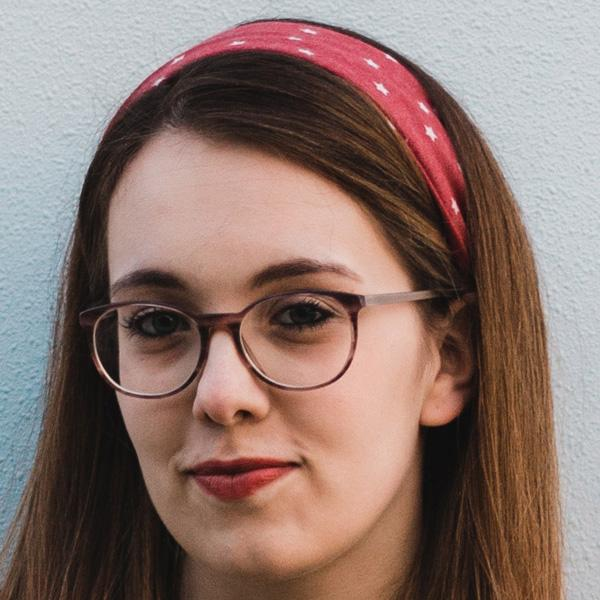Eyes: (260, 289, 342, 345), (118, 301, 201, 351)
